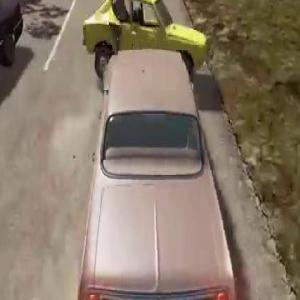moderate: (72, 0, 244, 300)
